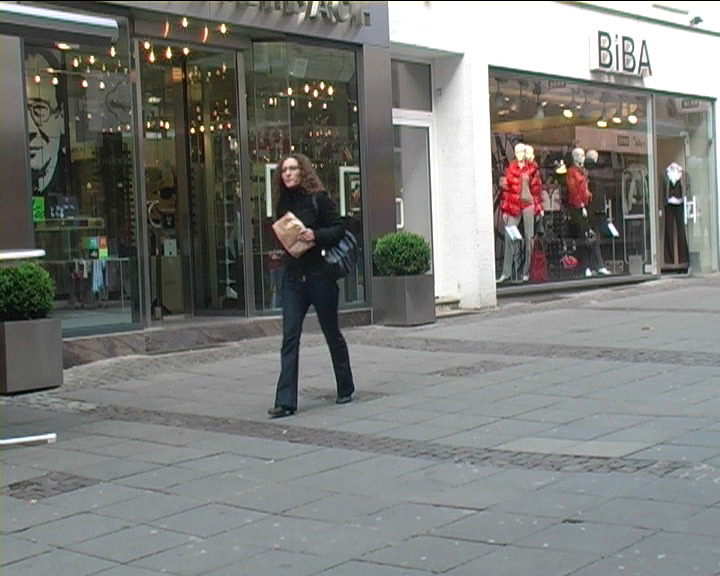undeflect: (269, 153, 336, 226)
